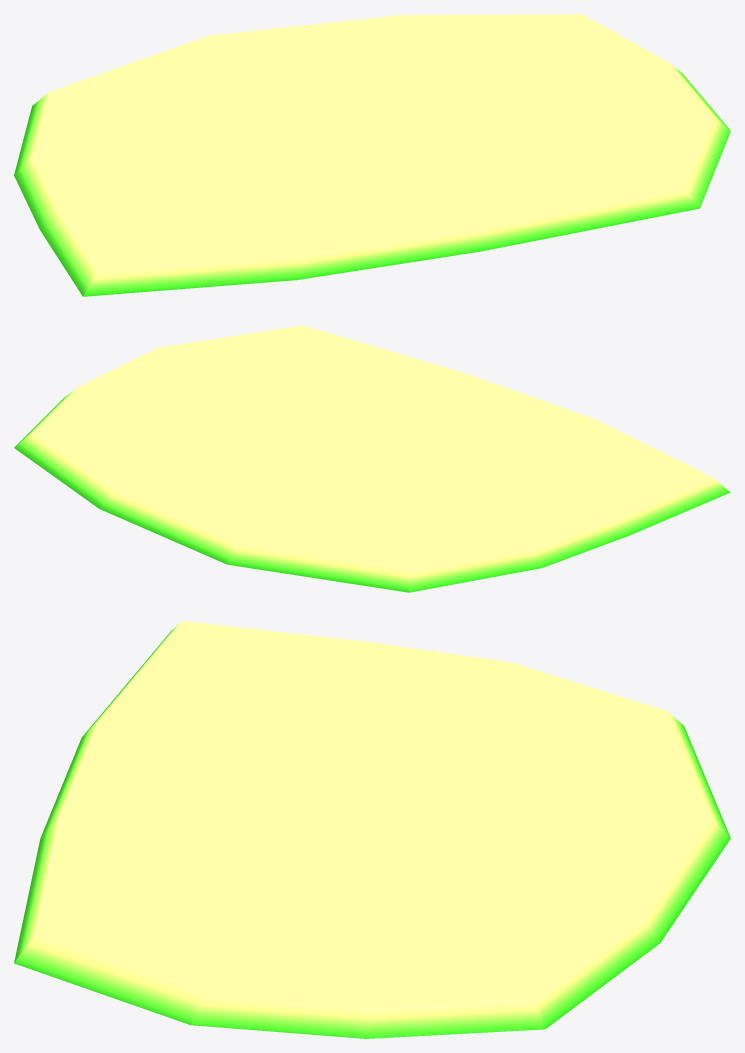
Rendered from PlayGround_Kit_Puddle_Slime.fbx.
3 renders of one model, top to bottom at view 1: azimuth 30°, elevation 25°; view 2: azimuth 150°, elevation 25°; view 3: azimuth 270°, elevation 25°, orthographic. The views are drawn at different scales.
Parts seen in each view (by area): view 1: PlayGround_Kit_Puddle_Slime; view 2: PlayGround_Kit_Puddle_Slime; view 3: PlayGround_Kit_Puddle_Slime.
Part boxes in pixels (bbox=[...]): PlayGround_Kit_Puddle_Slime: bbox=[14, 14, 730, 296]; PlayGround_Kit_Puddle_Slime: bbox=[14, 325, 730, 592]; PlayGround_Kit_Puddle_Slime: bbox=[14, 621, 730, 1038].
Bounding box in the file's own units: 1.5 × 0.035 × 1.11.
